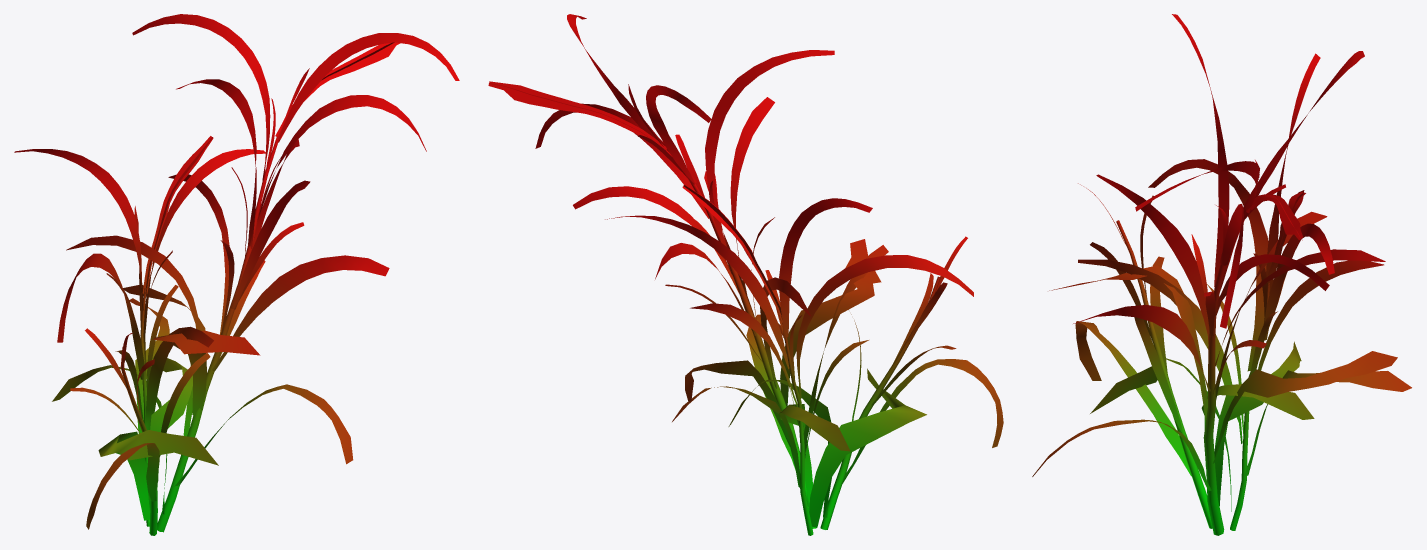
File: tjugaikia_Var2_LOD0.fbx
3 views of the same model, side by side, from view 1: azimuth 30°, elevation 25°; view 2: azimuth 150°, elevation 25°; view 3: azimuth 270°, elevation 25° (orthographic). The views are drawn at different scales.
Visible parts, largest first — view 1: _e616_Var2_LOD0; view 2: _e616_Var2_LOD0; view 3: _e616_Var2_LOD0.
Part boxes in pixels (x1=…): _e616_Var2_LOD0: x1=14, y1=14, x2=459, y2=535; _e616_Var2_LOD0: x1=488, y1=14, x2=1003, y2=535; _e616_Var2_LOD0: x1=1032, y1=14, x2=1411, y2=535.
Size of the model in its own units: 58.96 by 62.28 by 41.34.
